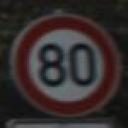speed_limit_80: (12, 11, 118, 117)
